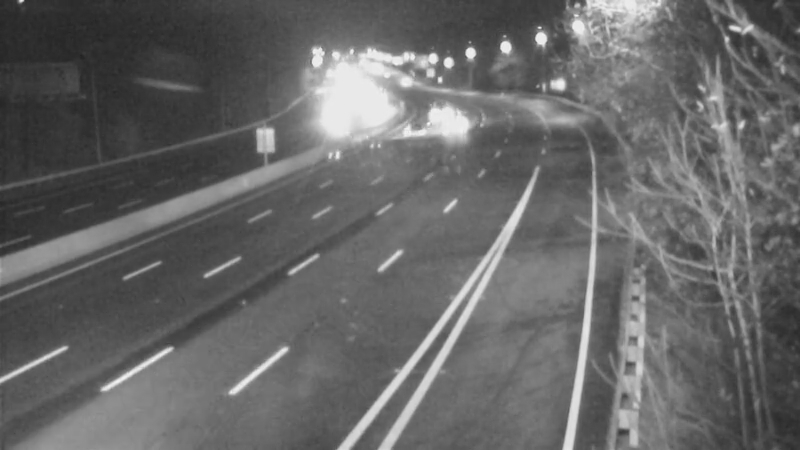vehicle: (413, 86, 463, 136), (430, 97, 480, 147), (389, 107, 439, 157)
